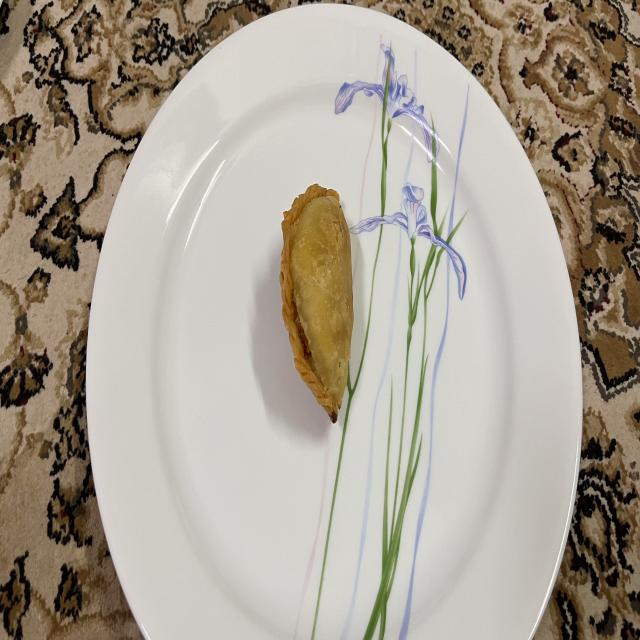karipap: (280, 184, 354, 422)
